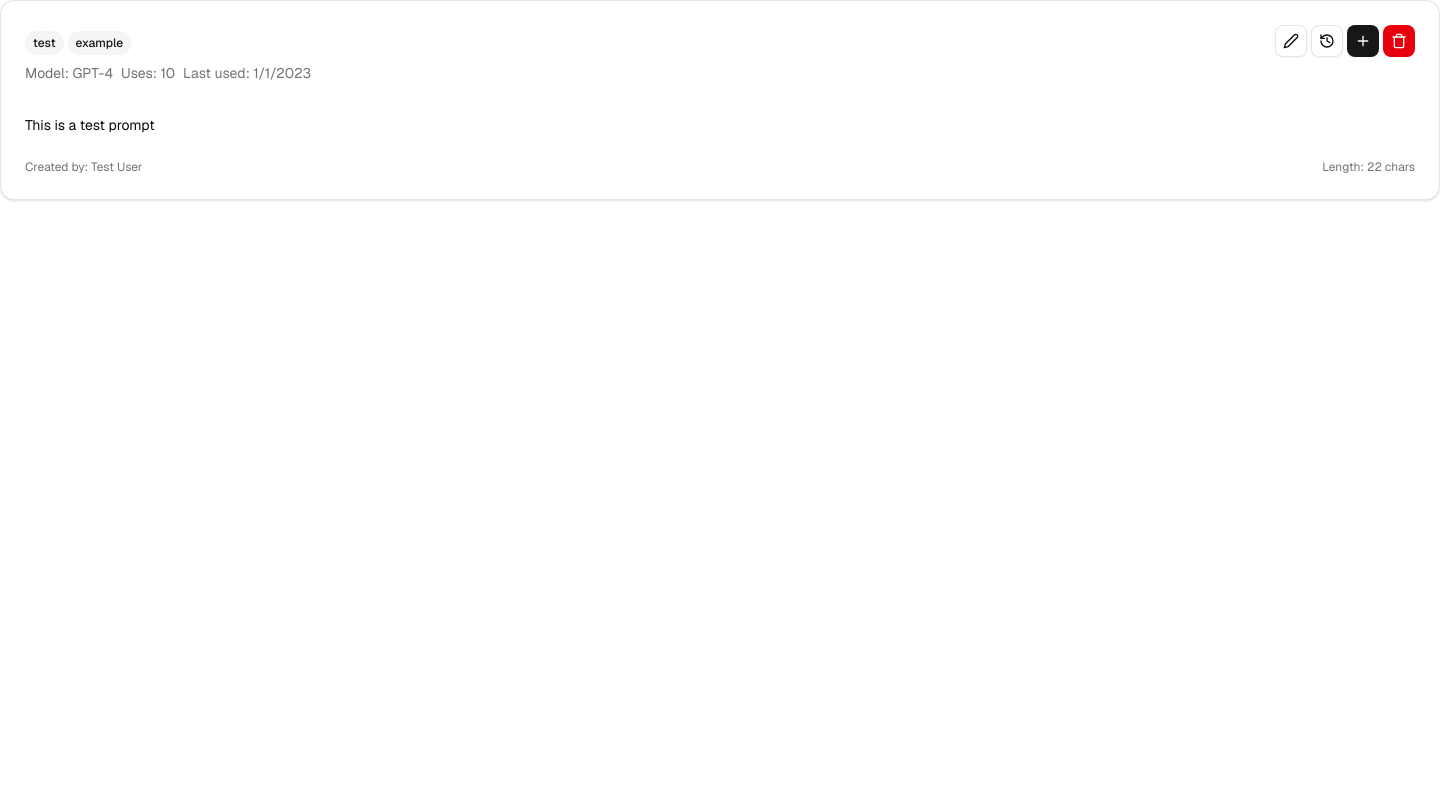
PromptItem Component › opens history dialog when history button is clicked
Click the 2nd button: point(1327, 41) x1=1311 y1=25 x2=1343 y2=57
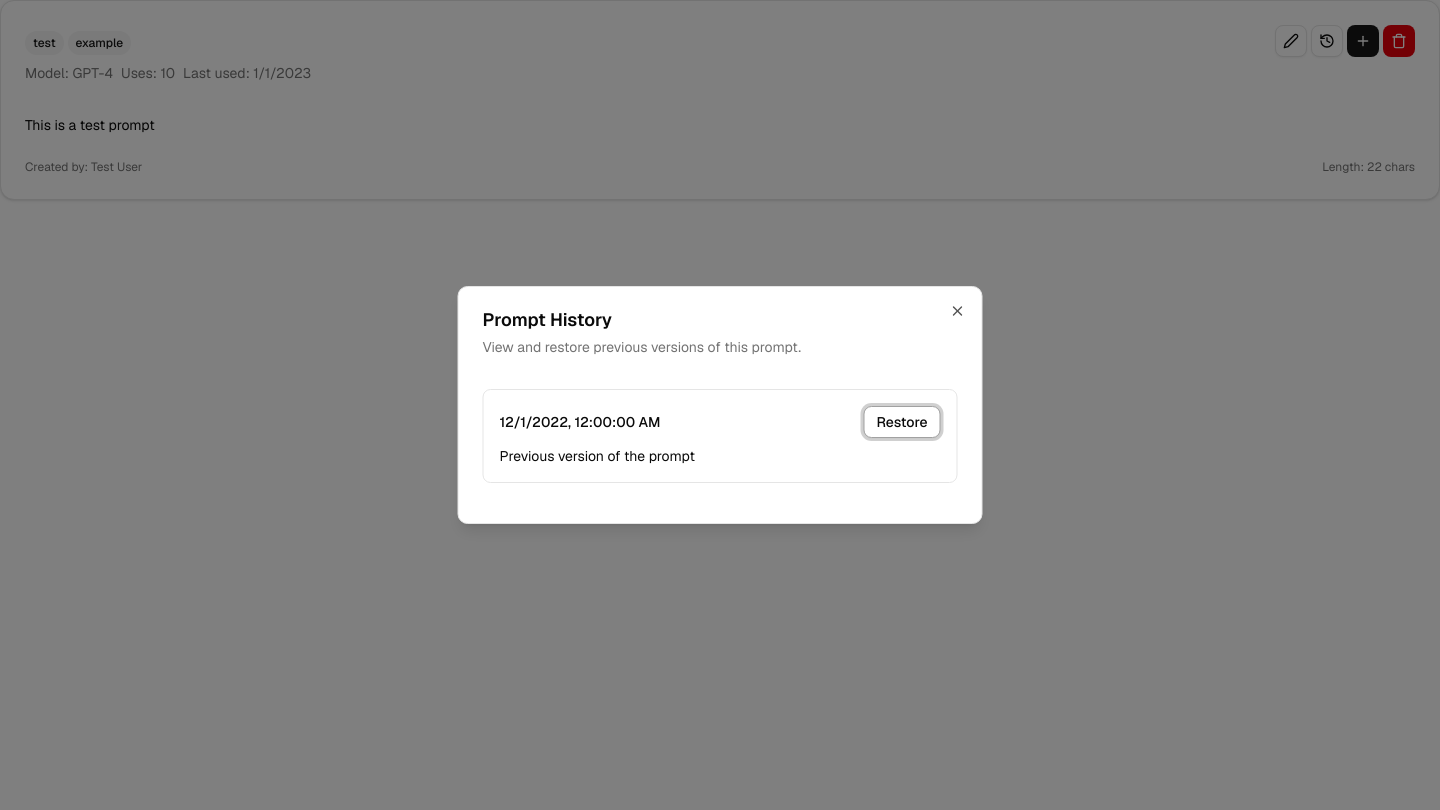
Now the heading "Prompt History" is shown, box x1=482 y1=308 x2=612 y2=331
Now the text "View and restore previous versions of this prompt." is shown, box x1=482 y1=338 x2=801 y2=356
Now the text "Previous version of the prompt" is shown, box x1=500 y1=447 x2=695 y2=465
